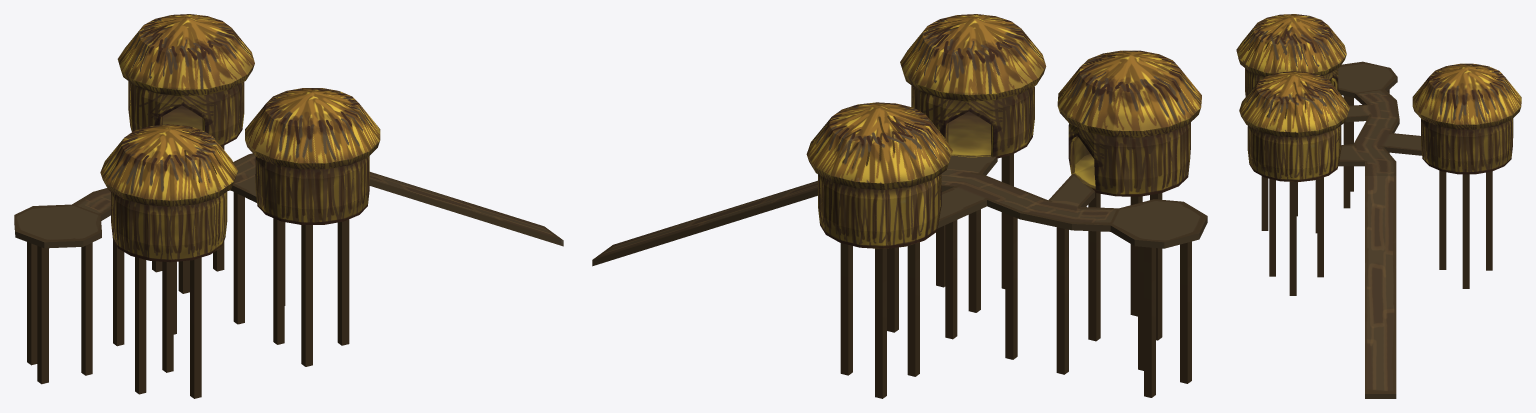
The model's file is Bungalo.gltf.
3 views of the same model, side by side, from view 1: azimuth 30°, elevation 25°; view 2: azimuth 150°, elevation 25°; view 3: azimuth 270°, elevation 25° (orthographic). The views are drawn at different scales.
Visible parts, largest first — view 1: Bungalo; view 2: Bungalo; view 3: Bungalo.
Boxes of the visible parts, x1,y1,x2,y2 form: Bungalo: (14, 14, 563, 398); Bungalo: (592, 14, 1207, 398); Bungalo: (1236, 14, 1521, 398).
Size of the model in its own units: 7.09 by 3.19 by 3.96.
1 material, 1 textured.
